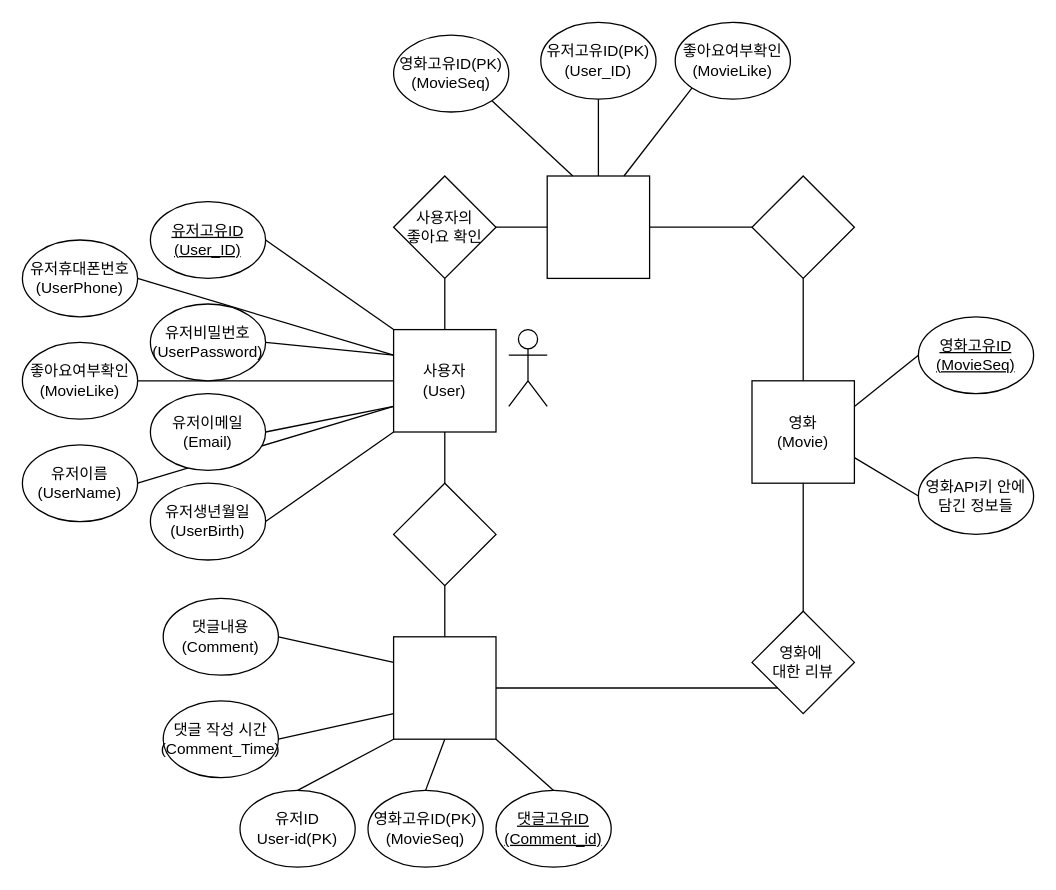
The diagram is 1056 pixels wide and 890 high, and some of its shapes have lost their labels. Each missing label, with the centre of its shape:
"Actor" belongs at (527,367).
"댓글 (C omment)" belongs at (444,687).
"사용자의 개인적인 리뷰" belongs at (444,534).
"영화에 대한 좋아요 갯수 수집" belongs at (802,226).
"좋아요 (Movie_Likes)" belongs at (598,226).
